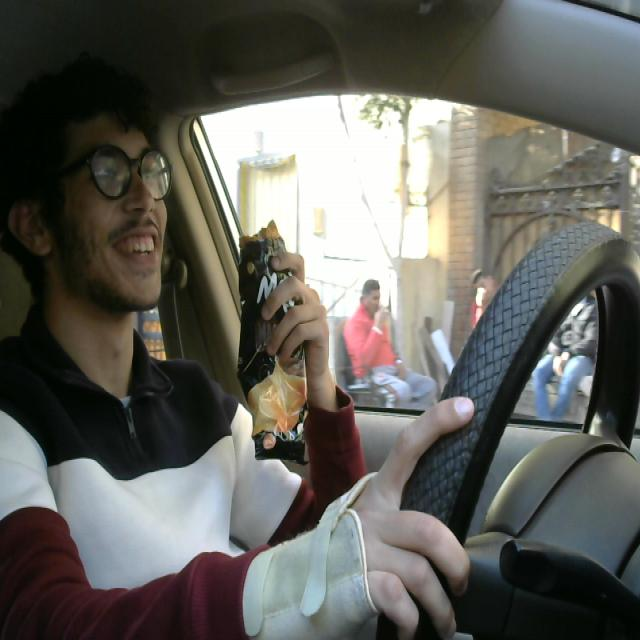eating: (234, 216, 322, 477)
